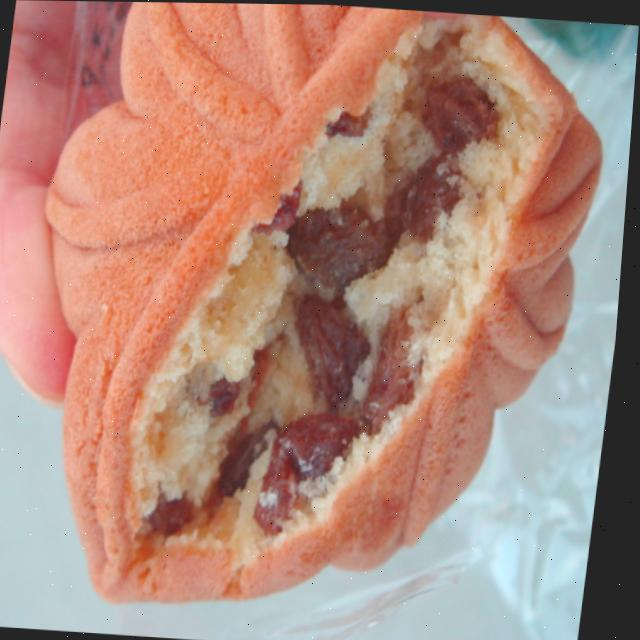面包点心: (0, 0, 635, 640)
